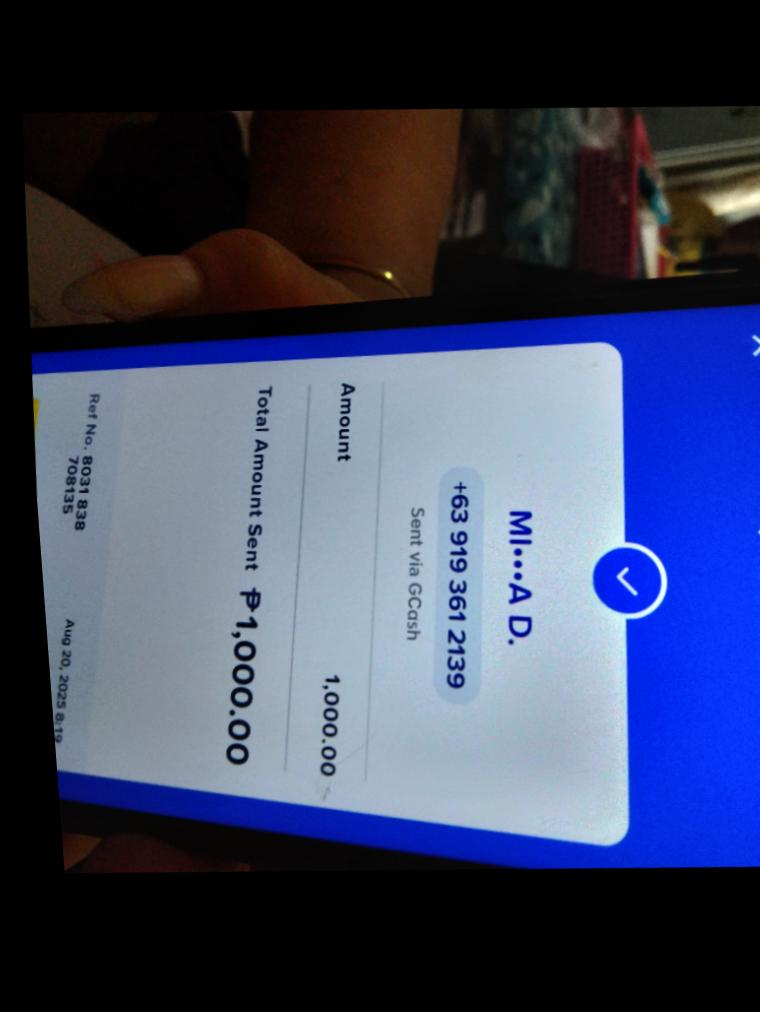Receipt: (31, 305, 760, 869)
